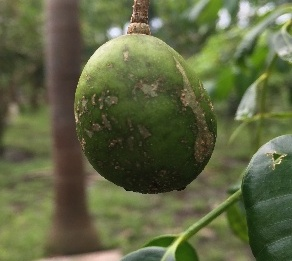Coc: (63, 35, 228, 205)
